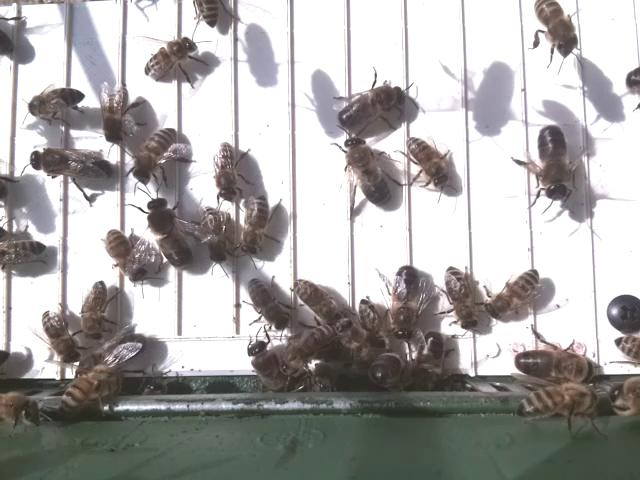Drone: (26, 143, 116, 190), (145, 193, 196, 272), (342, 133, 394, 208), (336, 83, 407, 133), (535, 120, 572, 205), (512, 345, 596, 381), (388, 263, 422, 345)
Worker: (242, 273, 290, 336), (483, 267, 540, 320), (529, 0, 582, 56), (38, 301, 81, 367), (441, 261, 479, 335), (131, 128, 177, 189), (405, 134, 451, 194), (104, 225, 148, 286), (139, 36, 197, 80), (24, 84, 90, 122), (289, 272, 336, 324), (96, 83, 134, 143), (199, 201, 232, 270), (78, 277, 110, 346), (241, 196, 273, 261), (213, 137, 242, 203), (0, 235, 52, 266)
